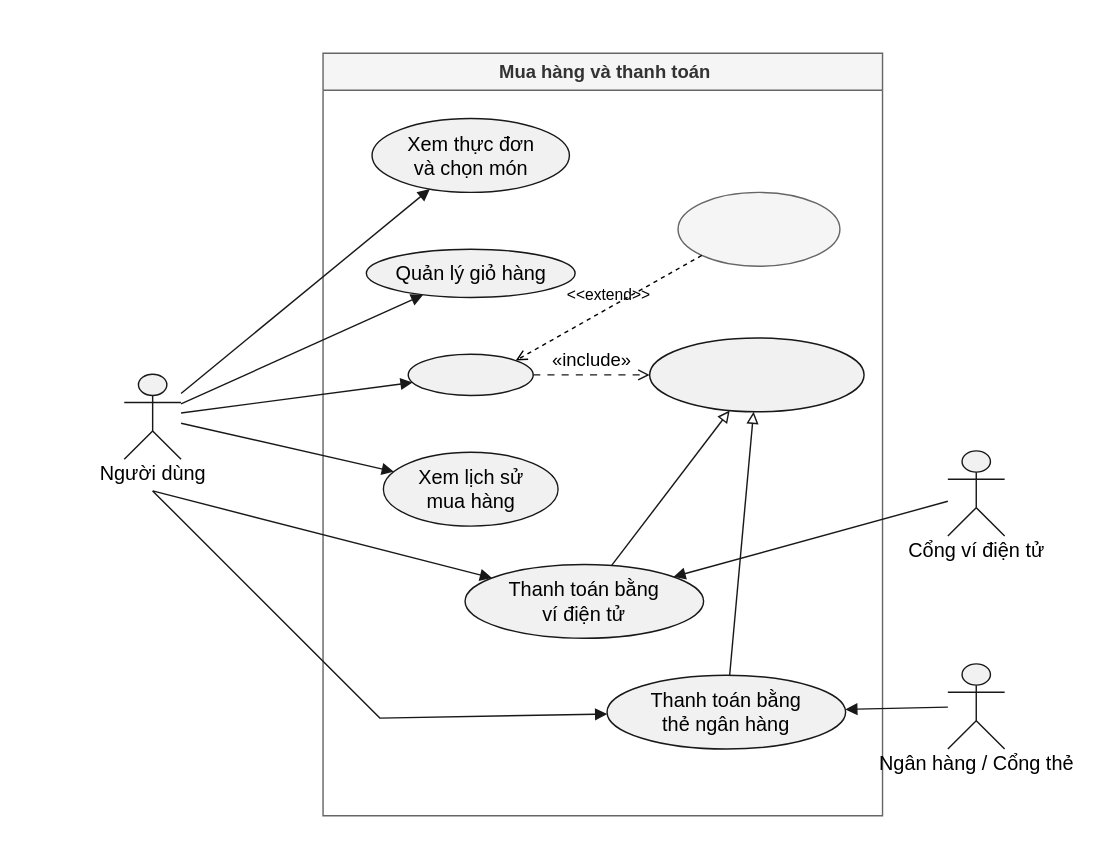
This 1112x841 diagram has some shape labels left out. Here are the shapes that lost their labels. From the top down, the centre of each, then its label:
point (758, 228): Áp dụng khuyến mãi
point (470, 374): Đặt hàng
point (756, 374): Thanh toán không tiền mặt
